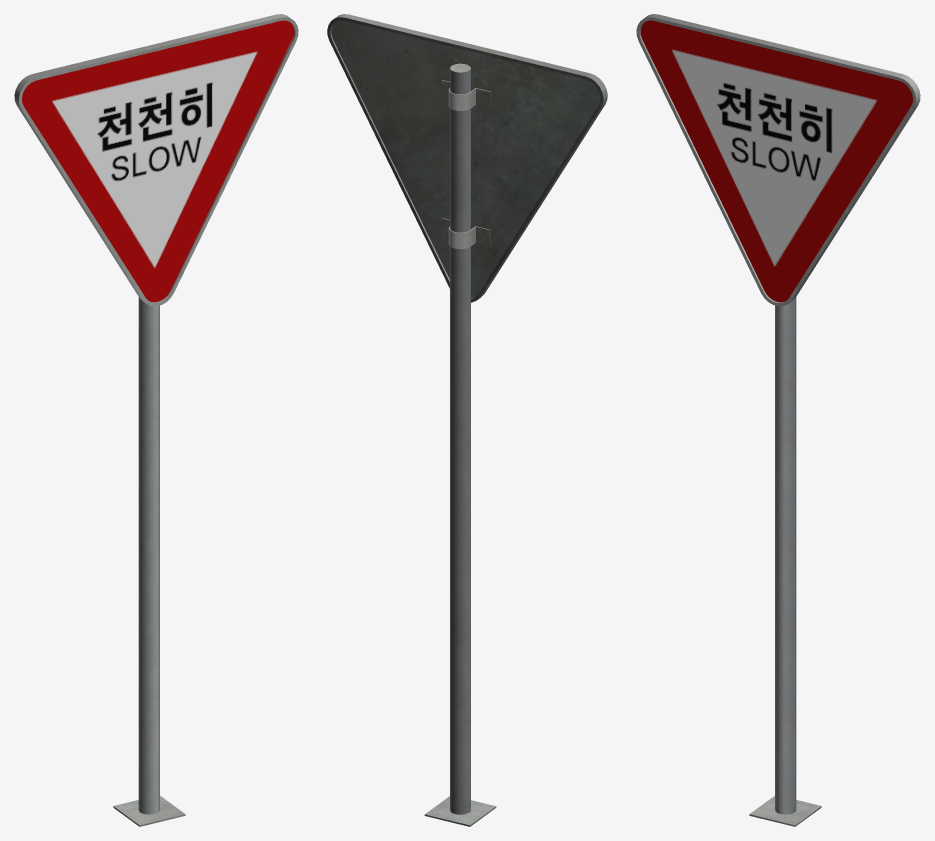
The picture shows the model from 3 angles, left to right: view 1: azimuth 30°, elevation 25°; view 2: azimuth 150°, elevation 25°; view 3: azimuth 330°, elevation 25°; orthographic projection.
Parts seen in each view (by area): view 1: MainBuilding; view 2: MainBuilding; view 3: MainBuilding.
Part boxes in pixels (bbox=[...]): MainBuilding: bbox=[14, 14, 298, 826]; MainBuilding: bbox=[327, 14, 607, 826]; MainBuilding: bbox=[636, 14, 920, 826].
Bounding box in the file's own units: 0.9151 × 2.41 × 0.15.
1 material, 1 textured.
